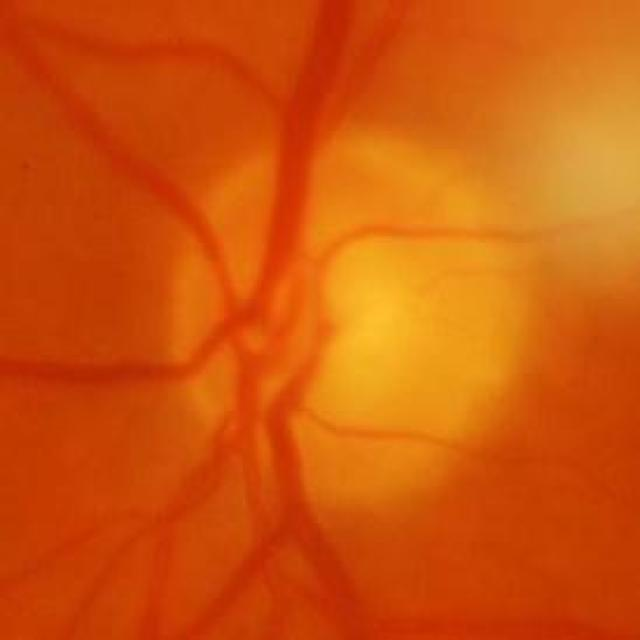OC: (242, 229, 414, 409)
OD: (161, 116, 525, 510)
